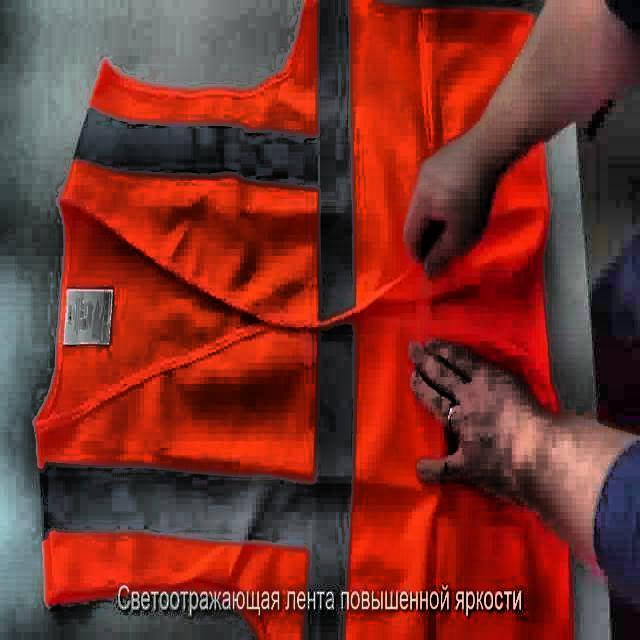safety_jacket: (32, 0, 576, 640)
